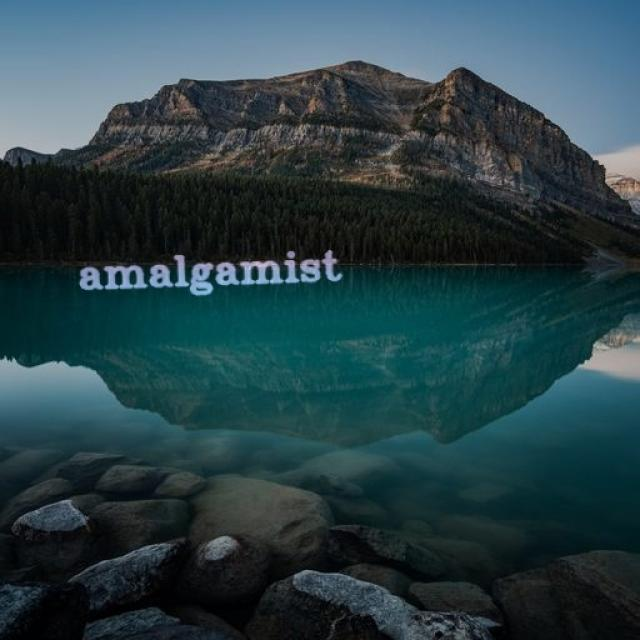watermark: (68, 248, 342, 295)
